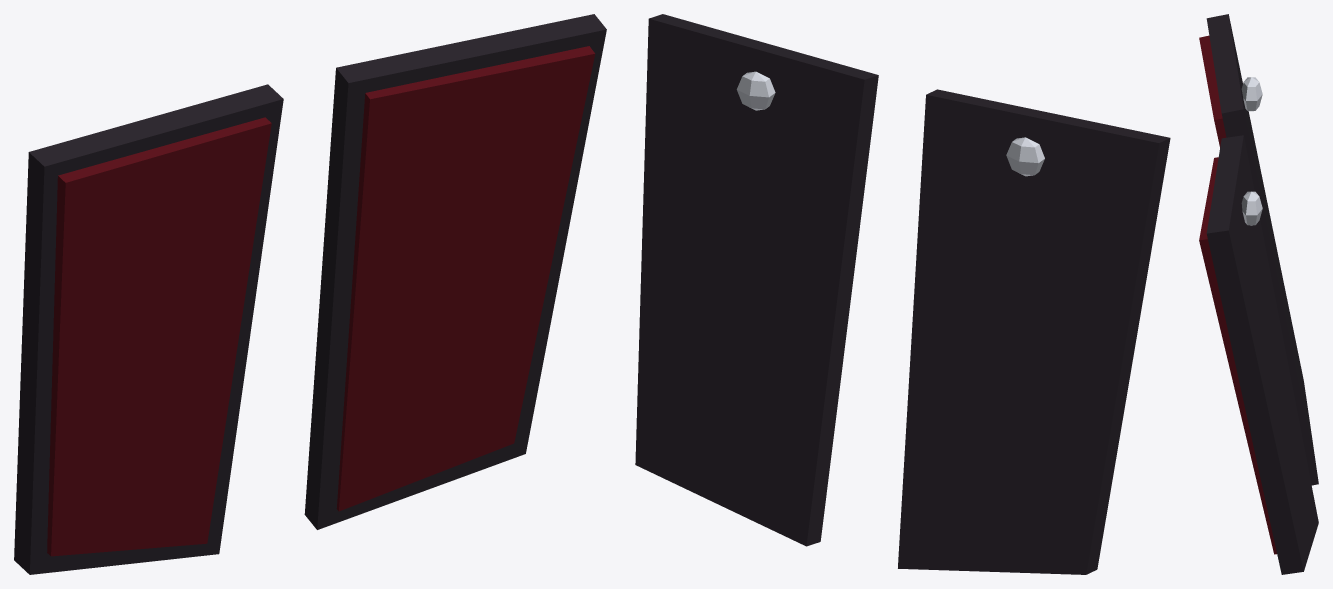
Rendered from morvaine_noble_tails.glb.
3 views of the same model, side by side, from view 1: azimuth 30°, elevation 25°; view 2: azimuth 150°, elevation 25°; view 3: azimuth 270°, elevation 25° (orthographic). The views are drawn at different scales.
Visible parts, largest first — view 1: morvaine_noble_tails; view 2: morvaine_noble_tails; view 3: morvaine_noble_tails.
Part boxes in pixels (x1,y1,x2,y2): morvaine_noble_tails: [14, 14, 606, 574]; morvaine_noble_tails: [635, 14, 1170, 574]; morvaine_noble_tails: [1199, 14, 1318, 574].
Size of the model in its own units: 0.682 by 0.5655 by 0.1595.
